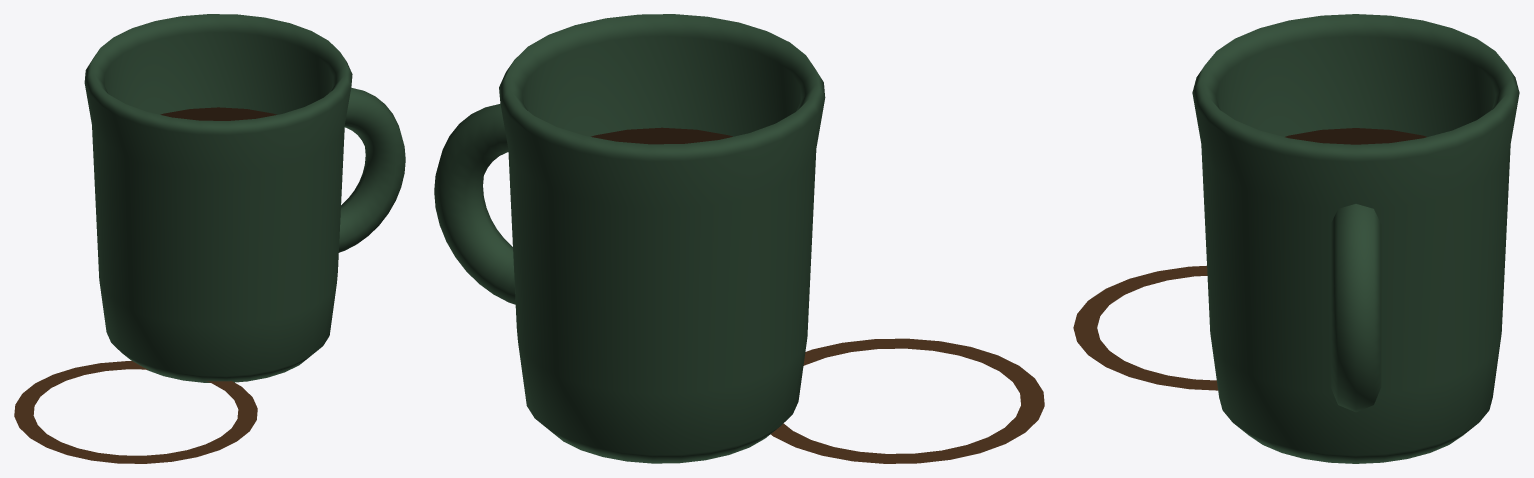
File: cold-coffee-with-skin.glb
The picture shows the model from 3 angles, left to right: view 1: azimuth 30°, elevation 25°; view 2: azimuth 150°, elevation 25°; view 3: azimuth 270°, elevation 25°; orthographic projection. The views are drawn at different scales.
Size of the model in its own units: 0.405 by 0.248 by 0.3.
